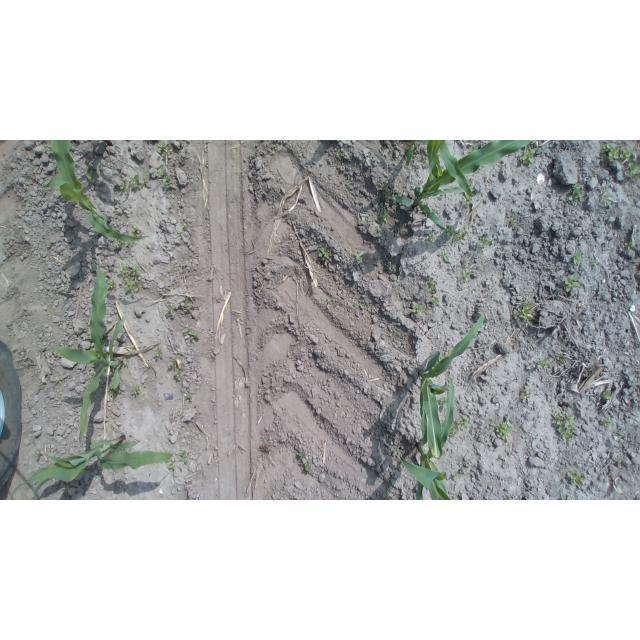Maize: (40, 263, 127, 454), (390, 141, 534, 234), (8, 429, 181, 499), (411, 312, 489, 460), (30, 140, 135, 248), (395, 380, 459, 501)
Weeds: (600, 141, 640, 180), (549, 412, 579, 446), (118, 261, 142, 295), (297, 452, 318, 476), (446, 416, 472, 435), (515, 299, 534, 322), (494, 421, 514, 442), (446, 225, 467, 245), (562, 468, 585, 486), (567, 182, 585, 205), (561, 274, 579, 293), (128, 174, 146, 192), (154, 168, 172, 185), (421, 276, 439, 292), (155, 140, 173, 156), (86, 164, 99, 186), (532, 357, 552, 371), (596, 413, 612, 430), (179, 299, 197, 314), (458, 268, 474, 284), (435, 248, 450, 265), (521, 146, 535, 164), (182, 328, 200, 341), (129, 223, 144, 238), (569, 251, 585, 265), (318, 247, 331, 264), (429, 295, 443, 310), (377, 209, 391, 224), (164, 303, 178, 318), (410, 303, 426, 316), (462, 190, 475, 206), (178, 221, 189, 239), (553, 352, 567, 366), (104, 277, 117, 292), (518, 388, 530, 404), (353, 300, 367, 313), (106, 384, 118, 399), (178, 451, 190, 466), (600, 389, 613, 402), (478, 236, 492, 248), (356, 249, 366, 265), (150, 345, 162, 358), (166, 357, 179, 369), (131, 385, 143, 398), (320, 298, 335, 308), (116, 238, 131, 248), (167, 457, 177, 471), (118, 180, 129, 192), (184, 391, 194, 404), (32, 452, 42, 463), (590, 258, 599, 270), (427, 233, 436, 244), (335, 151, 344, 161), (623, 241, 634, 249), (510, 217, 518, 228), (175, 371, 184, 379)
